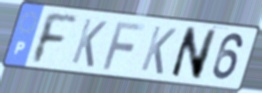6: (210, 32, 244, 85)
F: (30, 10, 79, 67), (100, 19, 147, 72)
K: (69, 16, 110, 70), (138, 24, 179, 77)
N: (167, 25, 219, 82)
